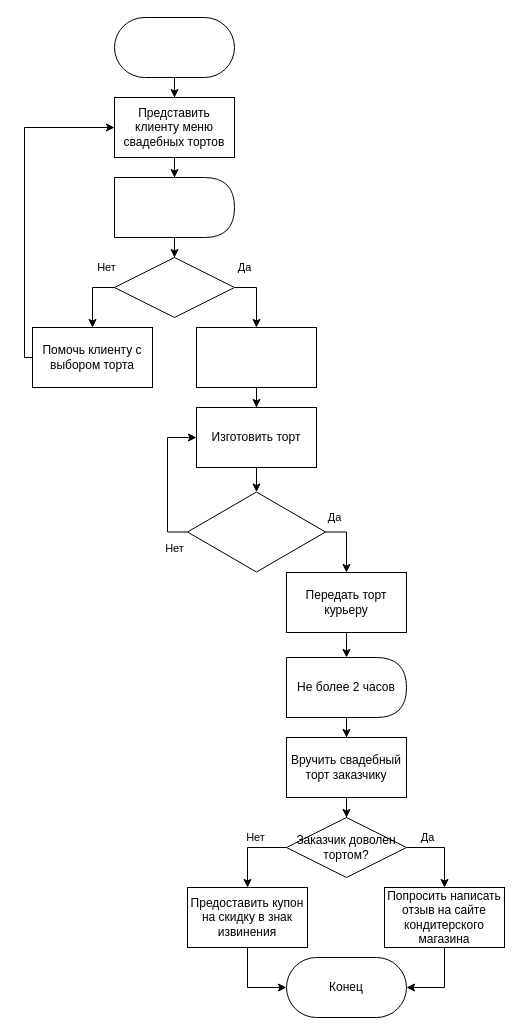
The diagram is 522 pixels wide and 1035 high, and some of its shapes have lost their labels. The shapes that lost their labels are listed below. From the top down, each one's centre as x and y in pixels, then its label:
At point 174,47: "Начало".
At point 174,207: "Не более 1 часа".
At point 174,287: "Клиент выбрал торт?".
At point 256,357: "Согласовать заказ и направить его кондитеру".
At point 256,531: "Торт удовлетворяет требованиям?".
